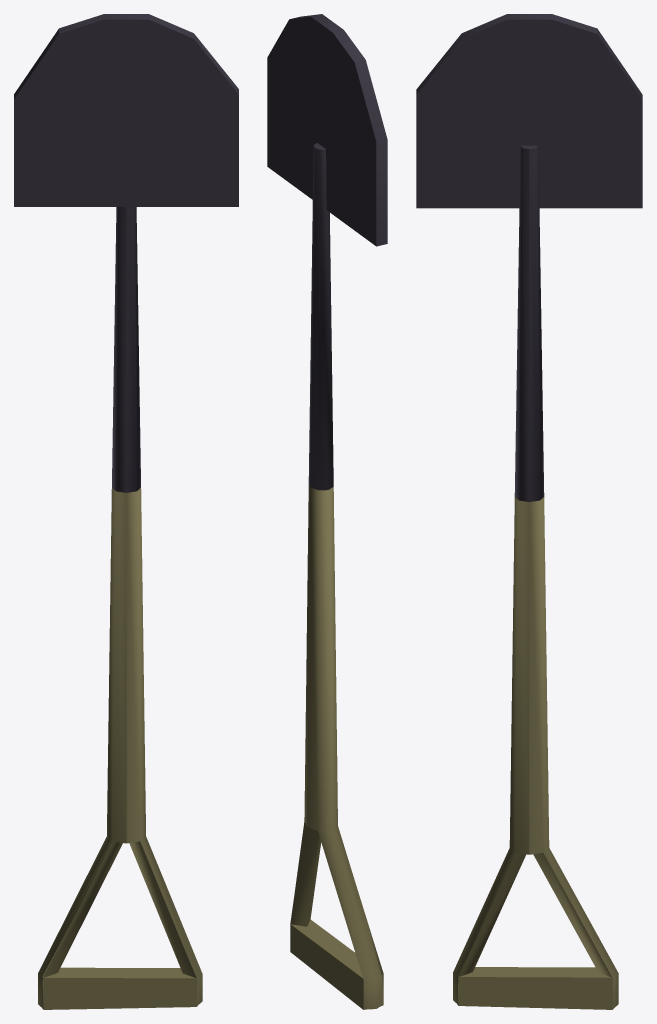
Rendered from W_Shovel.fbx.
The picture shows the model from 3 angles, left to right: view 1: azimuth 90°, elevation 25°; view 2: azimuth 210°, elevation 25°; view 3: azimuth 270°, elevation 25°; orthographic projection. The views are drawn at different scales.
Visible parts, largest first — view 1: Cube; view 2: Cube; view 3: Cube.
Part boxes in pixels (left/top/right/bottom): Cube: left=14, top=14, right=238, bottom=1009; Cube: left=267, top=14, right=387, bottom=1009; Cube: left=416, top=14, right=642, bottom=1009.
Size of the model in its own units: 3.83 by 93.13 by 19.26.
